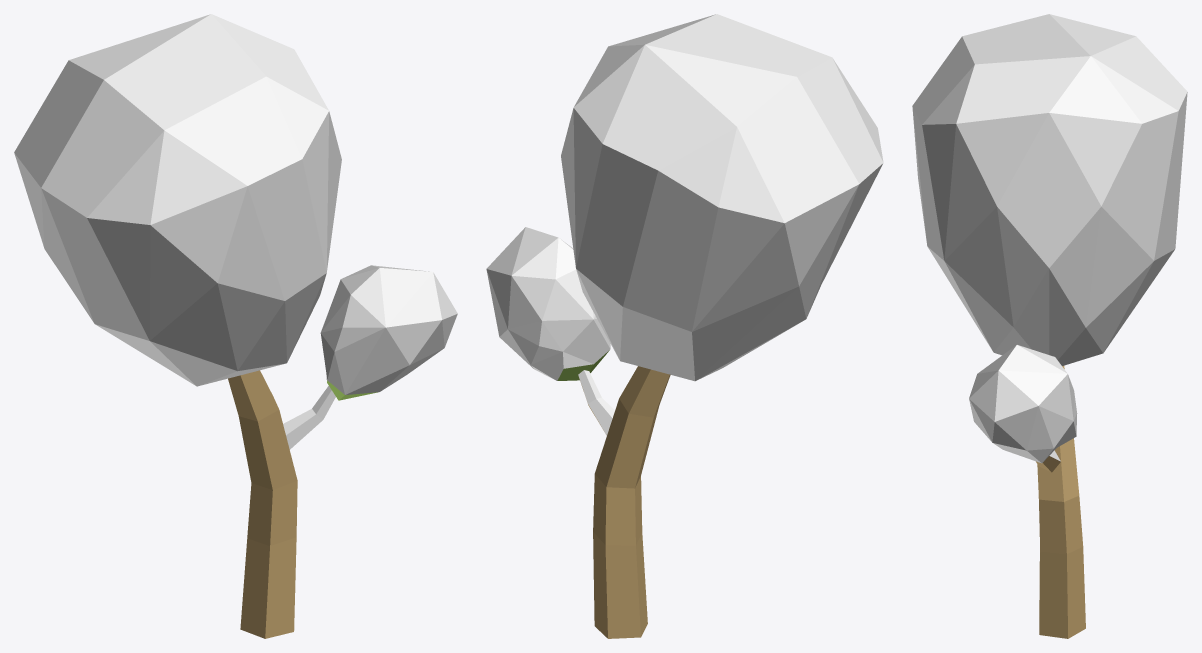
The model's file is Simple_Tree_m_Snow_06_LOD.fbx.
3 renders of one model, left to right at view 1: azimuth 30°, elevation 25°; view 2: azimuth 150°, elevation 25°; view 3: azimuth 270°, elevation 25°, orthographic. The views are drawn at different scales.
Visible parts, largest first — view 1: Simple_Tree_m_Snow_06_LOD0; view 2: Simple_Tree_m_Snow_06_LOD0; view 3: Simple_Tree_m_Snow_06_LOD0.
Part boxes in pixels (x1=…): Simple_Tree_m_Snow_06_LOD0: x1=14, y1=14, x2=457, y2=638; Simple_Tree_m_Snow_06_LOD0: x1=486, y1=14, x2=883, y2=638; Simple_Tree_m_Snow_06_LOD0: x1=912, y1=14, x2=1187, y2=638.
Size of what is drawn, in the model's own units: 472 by 711 by 320.
